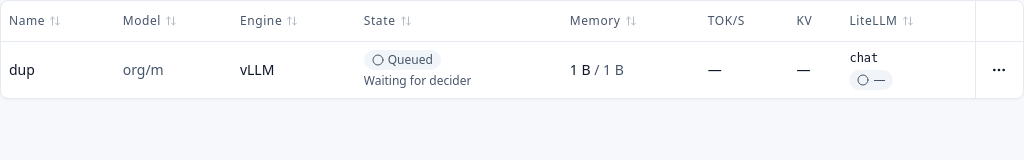
DeploymentsTable › shows why a queued deployment waits, as text and in a tooltip
The width and height of the screenshot is (1024, 160).
Expected: the text "Waiting for decider" is shown, x1=364 y1=73 x2=472 y2=89
Step 1. Hover over the text "Queued" → point(402, 60), box x1=364 y1=50 x2=441 y2=70
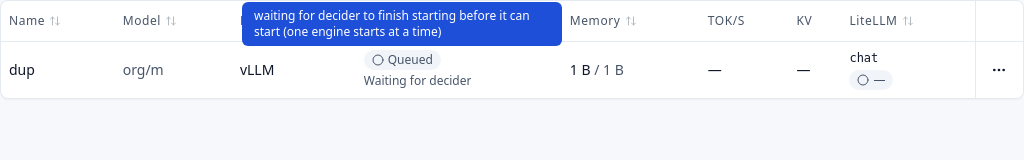
Expected: the tooltip "one engine starts at a time" is shown, x1=254 y1=7 x2=530 y2=40
